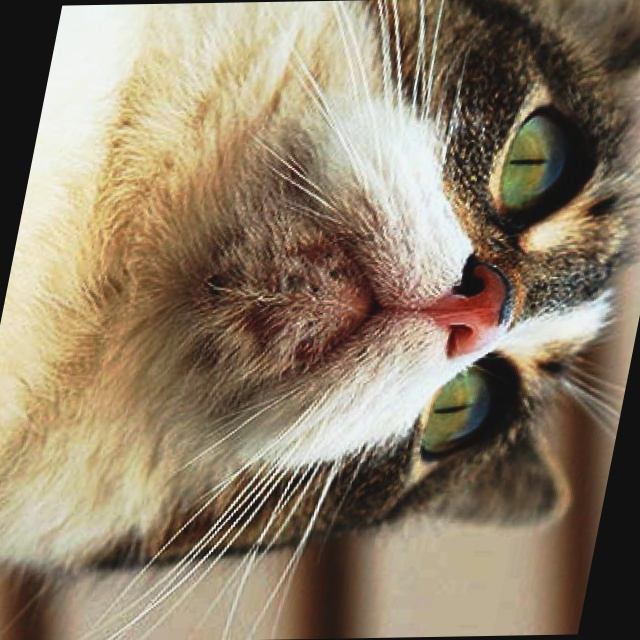acne: (182, 251, 343, 332)
